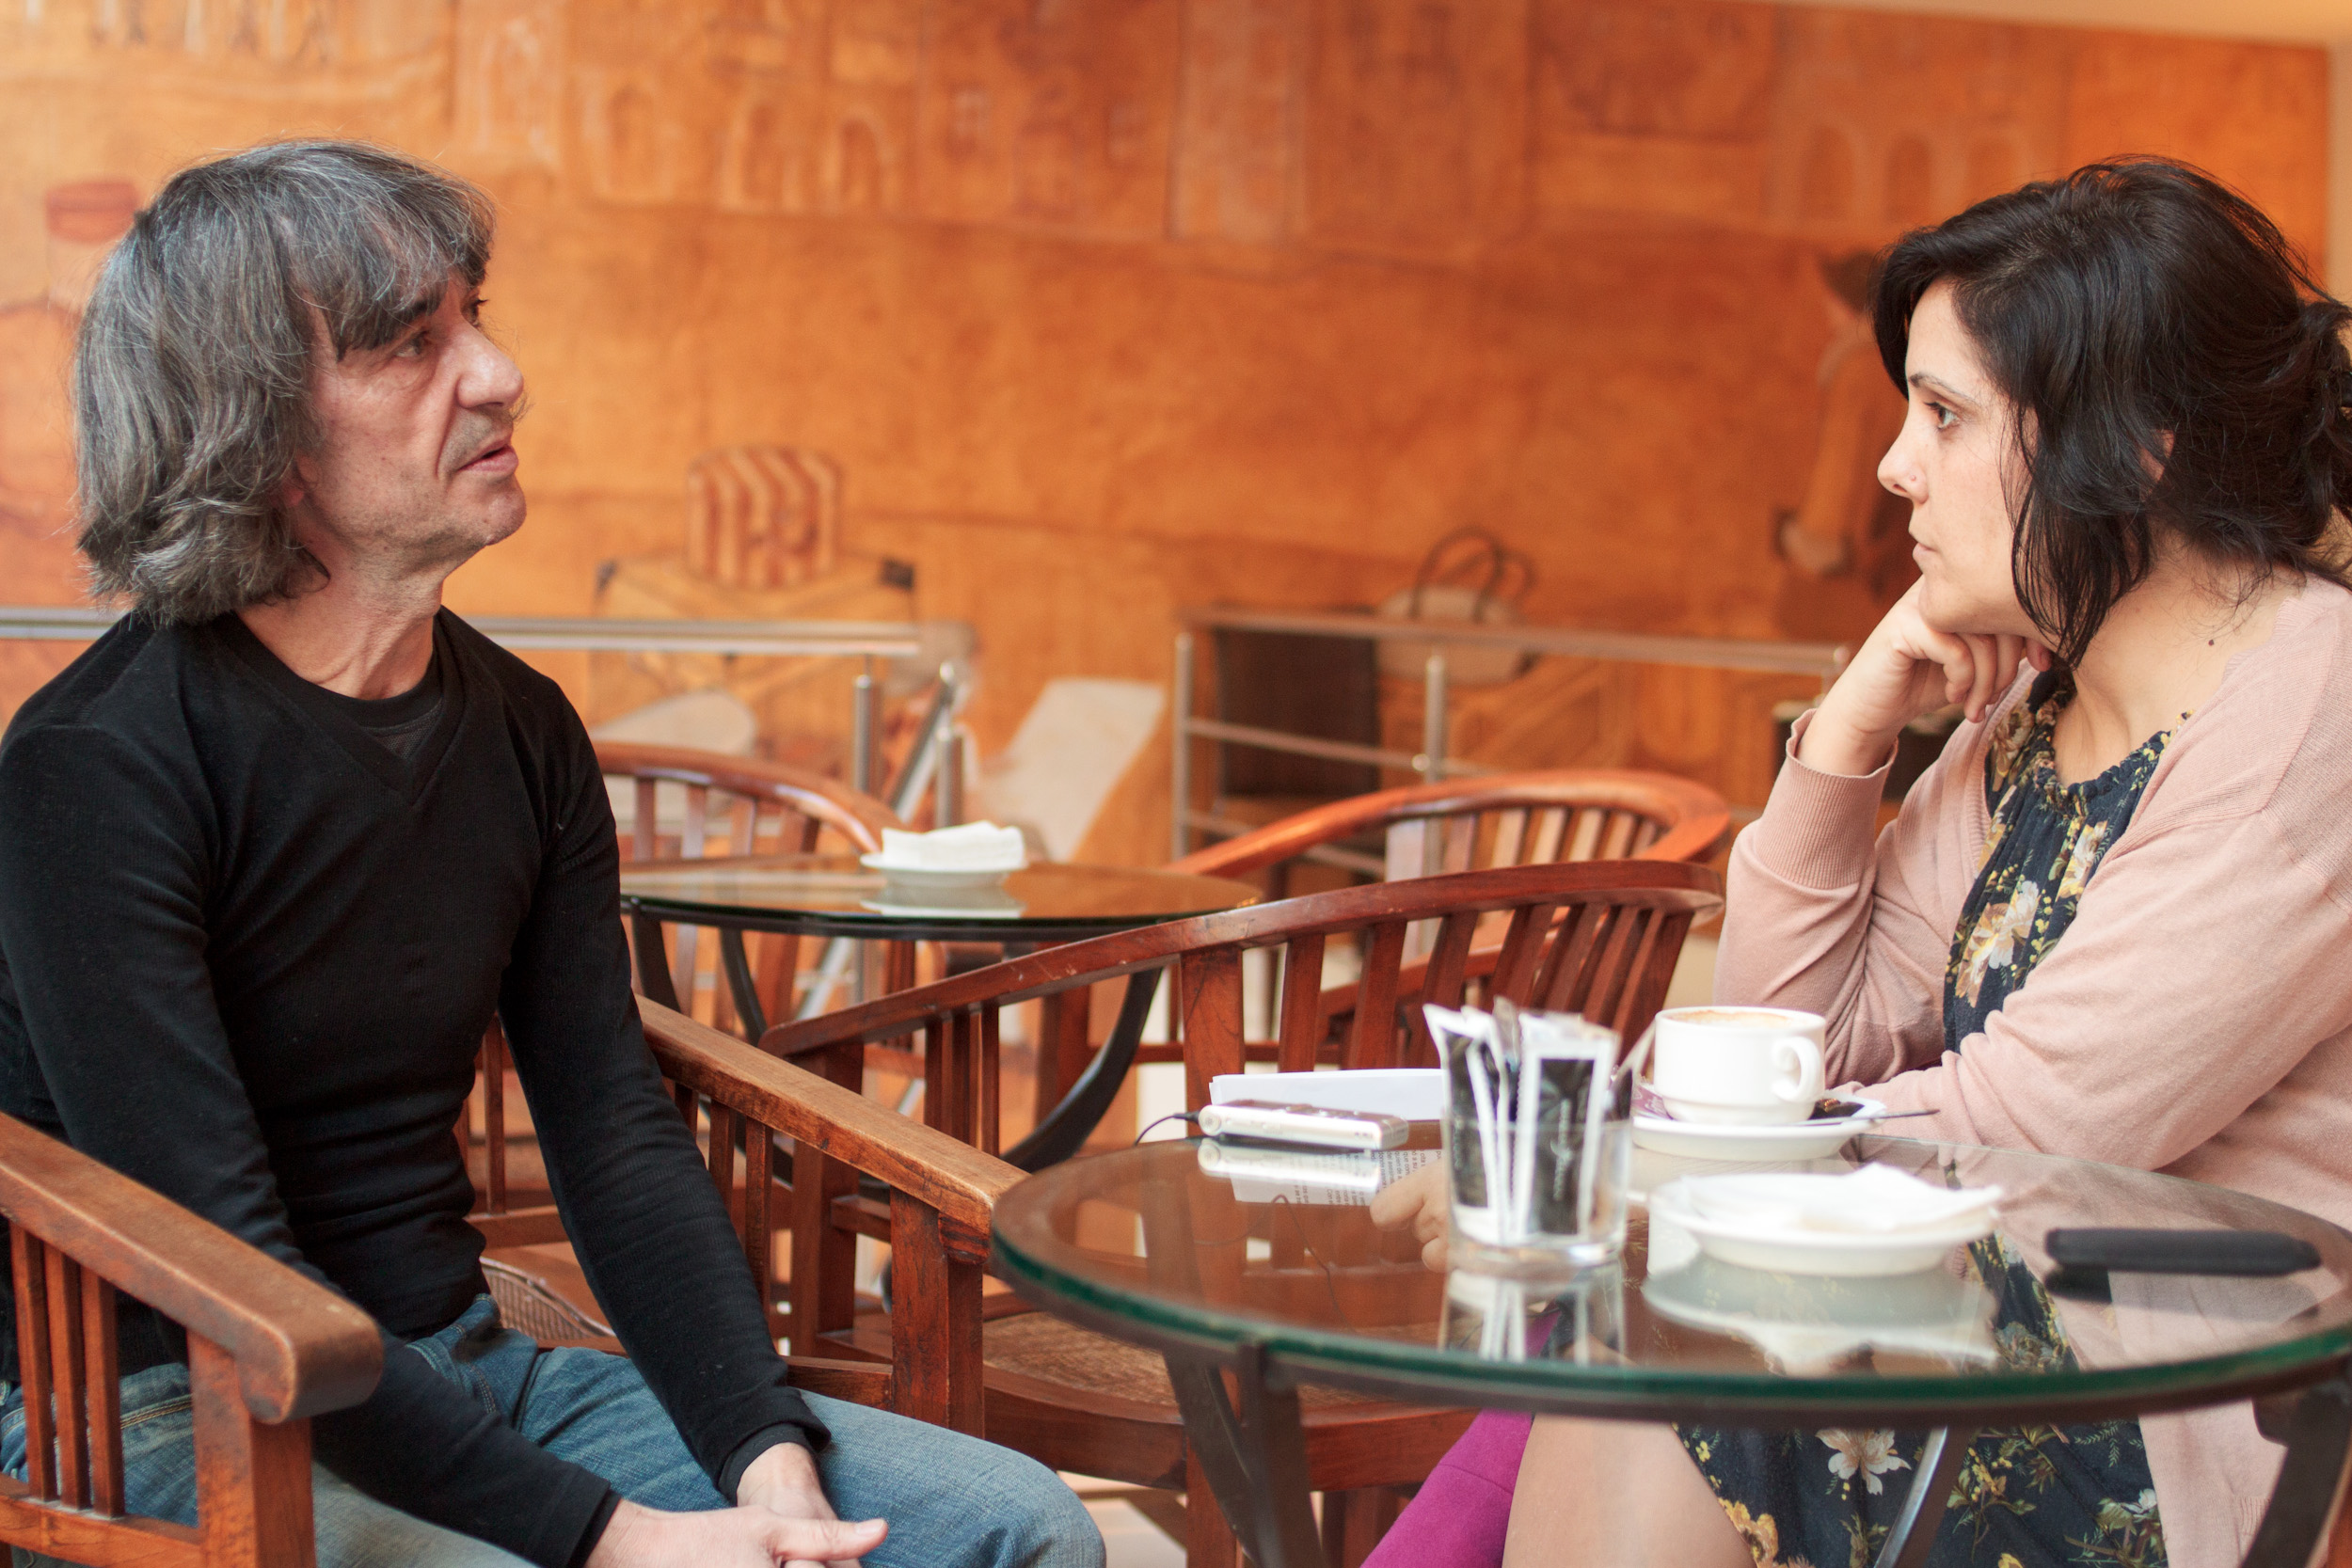person: (48, 128, 572, 924), (1814, 144, 2265, 972)
